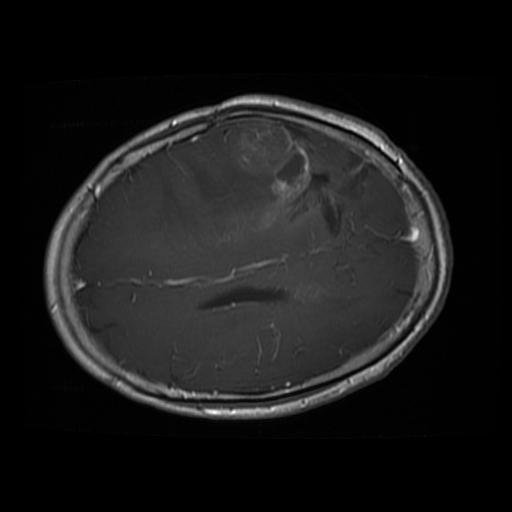glioma: (222, 118, 342, 241)
